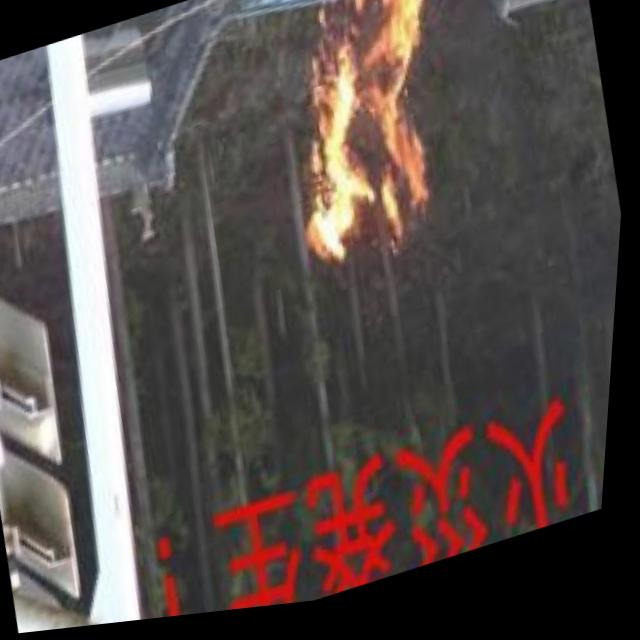Fire: (241, 0, 473, 288)
